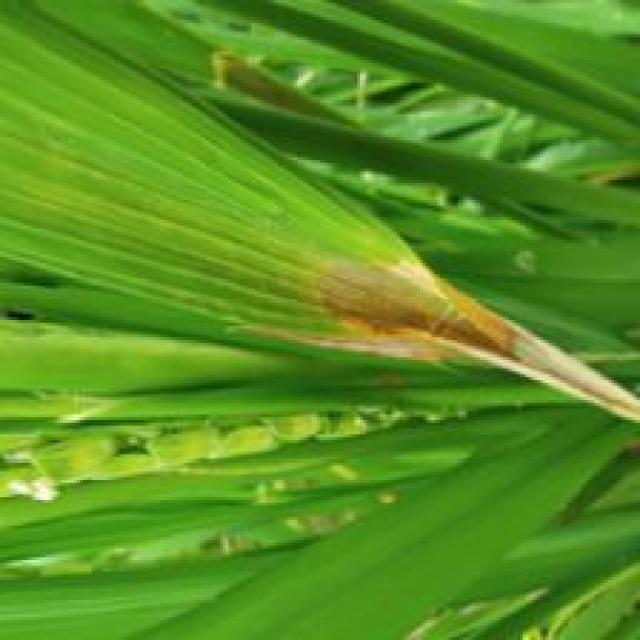Rice False Smut: (251, 258, 634, 421)
